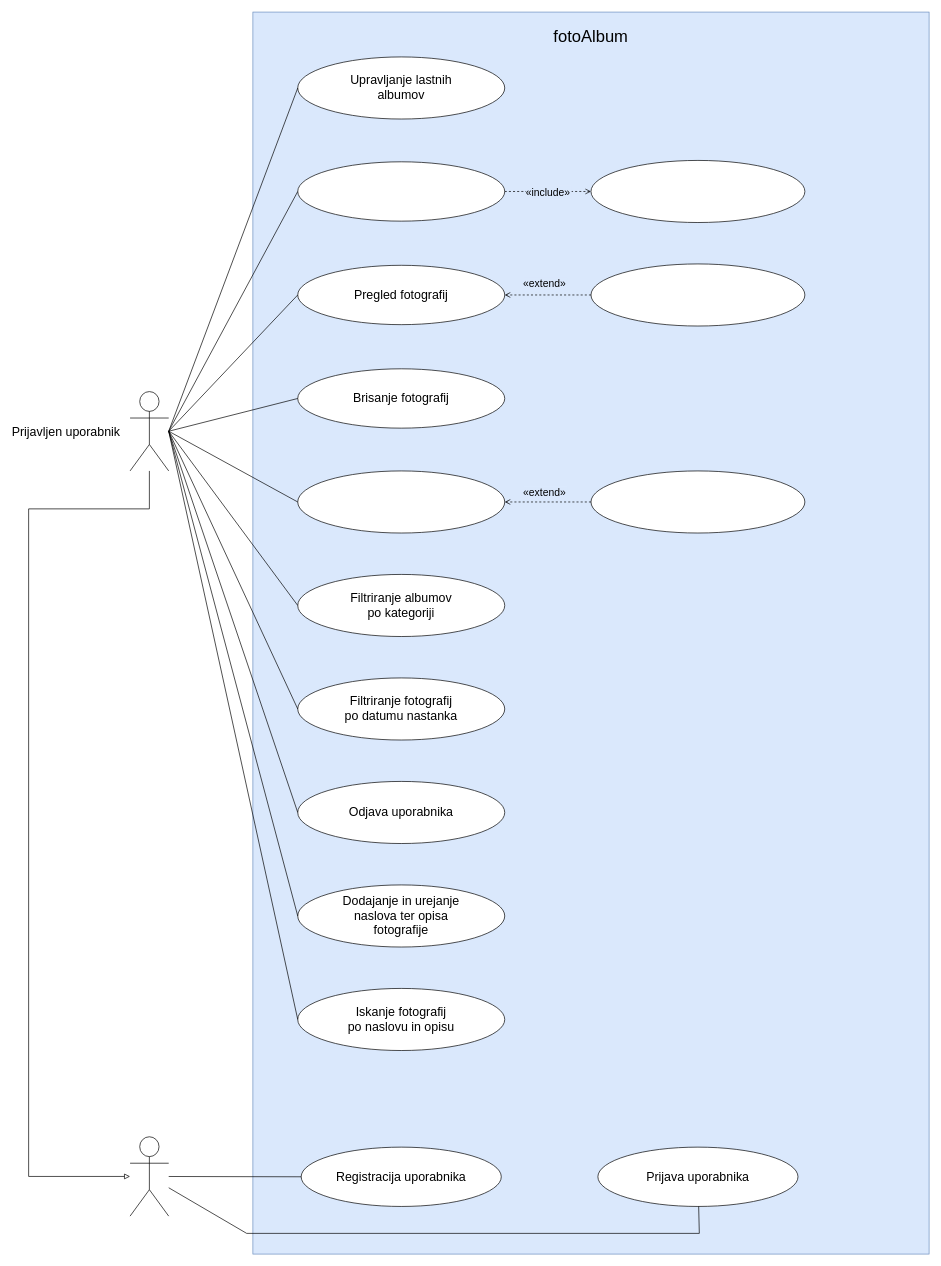
Some shapes in this 941 by 1266 pixel diagram are drawn without their labels. The shapes that lost their labels are listed below. From the top down, each one's centre as x and y in pixels, then its label:
At (401,191): "Nalaganje fotografij".
At (697,191): "Preverjanje ustreznosti fotografije".
At (697,294): "Označevanje fotografij kot priljubljenih".
At (401,501): "Razvrščanje albumov po kategorijah".
At (697,501): "Dodajanje lastne kategorije".
At (149,1176): "Neprijavljen obiskovalec".
